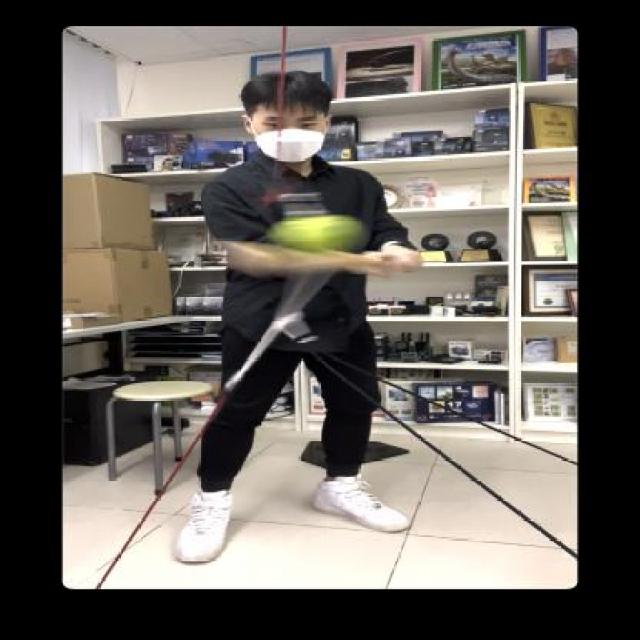baseball: (266, 206, 369, 260)
